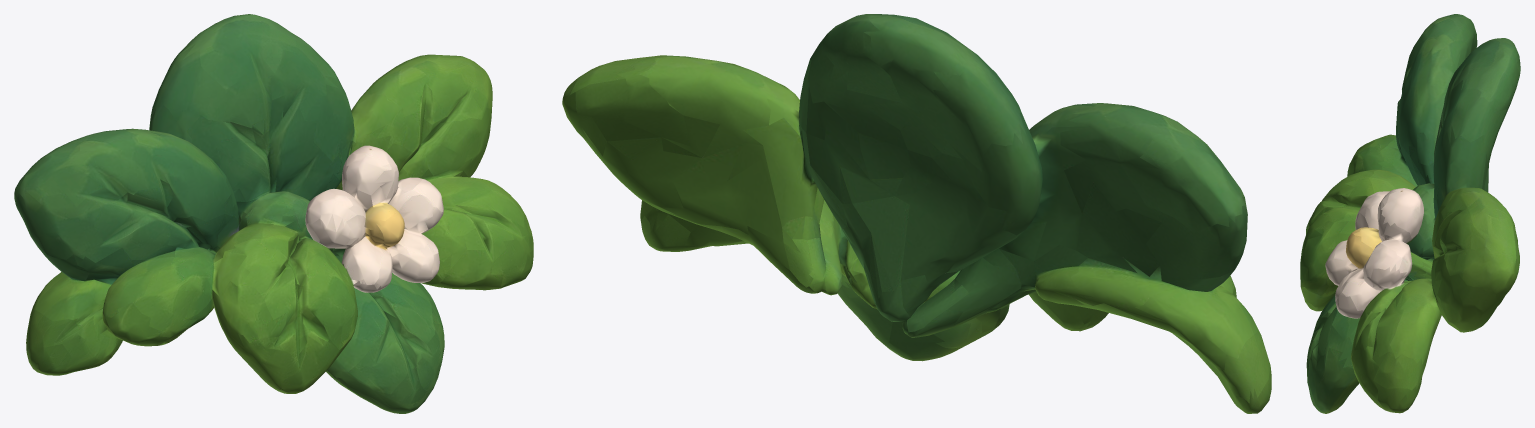
The model's file is forest-bloom.glb.
3 renders of one model, left to right at view 1: azimuth 30°, elevation 25°; view 2: azimuth 150°, elevation 25°; view 3: azimuth 270°, elevation 25°, orthographic. The views are drawn at different scales.
Size of the model in its own units: 1.9 by 1.27 by 0.7689.
1 material, 1 textured.
